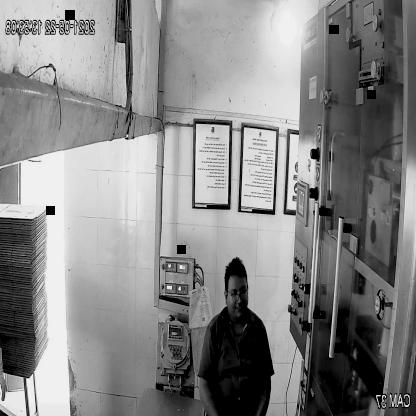goggles: (226, 284, 251, 306)
